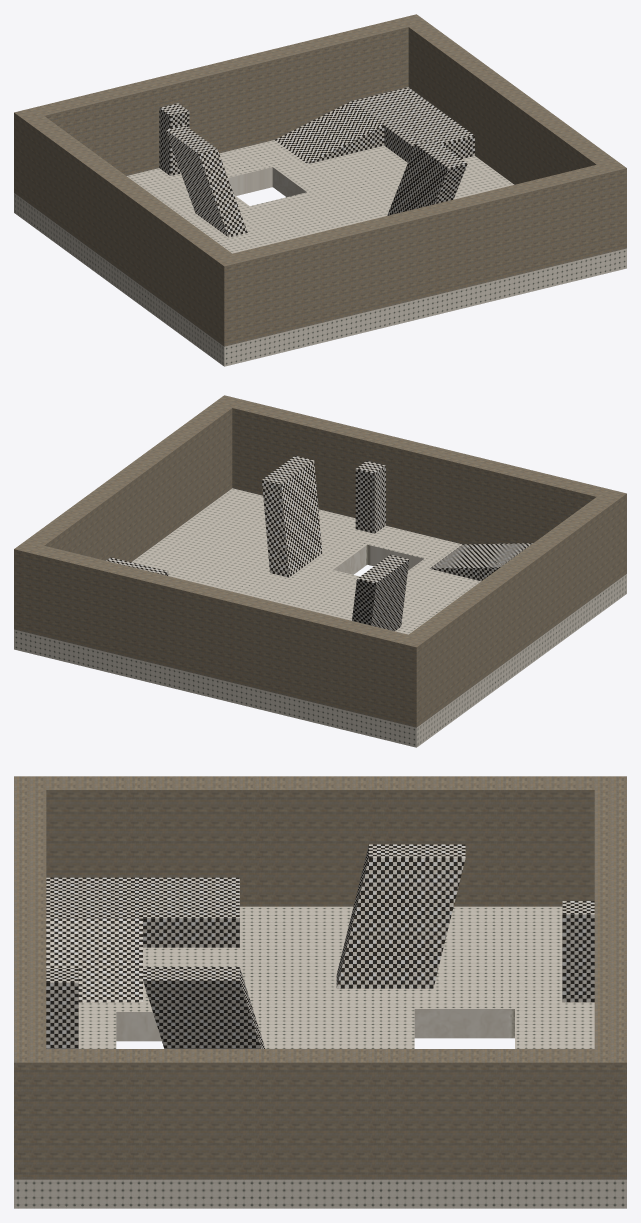
3 views of the same model, one above another, from view 1: azimuth 30°, elevation 25°; view 2: azimuth 150°, elevation 25°; view 3: azimuth 270°, elevation 25° (orthographic). The views are drawn at different scales.
Visible parts, largest first — view 1: entity0_brush3-col, entity0_brush0-col, entity0_brush1-col, entity0_brush2-col, entity0_brush4-col, entity0_brush8-col, entity0_brush5-col, entity0_brush9-col, entity0_brush10-col, entity0_brush11-col; view 2: entity0_brush1-col, entity0_brush0-col, entity0_brush3-col, entity0_brush2-col, entity0_brush4-col, entity0_brush10-col, entity0_brush5-col, entity0_brush6-col, entity0_brush12-col; view 3: entity0_brush4-col, entity0_brush0-col, entity0_brush2-col, entity0_brush5-col, entity0_brush7-col, entity0_brush1-col, entity0_brush3-col, entity0_brush10-col, entity0_brush6-col, entity0_brush11-col, entity0_brush12-col.
Boxes of the visible parts, box(x1,y1,x2,y2) form: entity0_brush3-col: box(233, 164, 607, 341); entity0_brush0-col: box(14, 140, 626, 366); entity0_brush1-col: box(14, 19, 408, 200); entity0_brush2-col: box(25, 116, 243, 346); entity0_brush4-col: box(398, 14, 626, 252); entity0_brush8-col: box(351, 87, 474, 162); entity0_brush5-col: box(165, 125, 247, 237); entity0_brush9-col: box(275, 101, 384, 164); entity0_brush10-col: box(387, 139, 467, 215); entity0_brush11-col: box(159, 103, 189, 175); entity0_brush1-col: box(33, 545, 427, 727); entity0_brush0-col: box(14, 488, 626, 747); entity0_brush3-col: box(232, 400, 607, 544); entity0_brush2-col: box(409, 489, 626, 719); entity0_brush4-col: box(14, 395, 242, 633); entity0_brush10-col: box(262, 455, 322, 577); entity0_brush5-col: box(352, 554, 409, 631); entity0_brush6-col: box(429, 543, 532, 581); entity0_brush12-col: box(355, 461, 385, 533); entity0_brush4-col: box(14, 1049, 626, 1179); entity0_brush0-col: box(14, 906, 626, 1208); entity0_brush2-col: box(14, 776, 594, 906); entity0_brush5-col: box(336, 844, 465, 988); entity0_brush7-col: box(46, 877, 239, 947); entity0_brush1-col: box(594, 776, 626, 1048); entity0_brush3-col: box(14, 790, 46, 1048); entity0_brush10-col: box(143, 967, 265, 1048); entity0_brush6-col: box(46, 918, 142, 1002); entity0_brush11-col: box(562, 901, 594, 1002); entity0_brush12-col: box(46, 969, 78, 1048).
Bounding box in the file's own units: 42 × 10 × 38.
3 materials, 3 textured.
